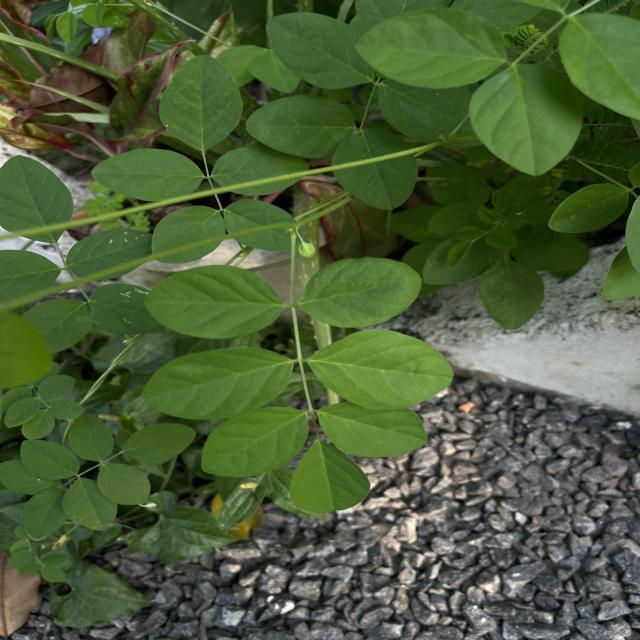Clitoria ternatea: (306, 328, 456, 411), (141, 345, 299, 422), (142, 263, 286, 341), (298, 256, 423, 330), (199, 406, 310, 478), (315, 401, 430, 458), (288, 440, 373, 514)
